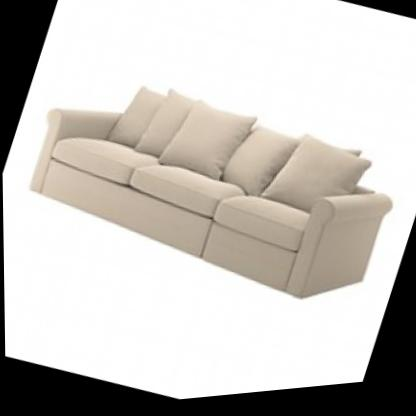Sofa: (1, 27, 414, 350)
